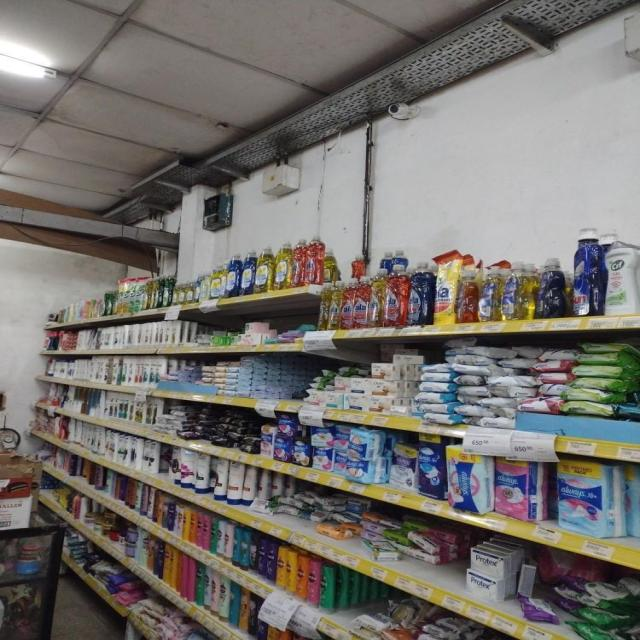ala_conc_amarillo: (369, 259, 385, 328), (328, 280, 341, 330), (320, 281, 332, 330)
ala_conc_azul: (408, 260, 432, 326)
ala_conc_rojo: (385, 262, 407, 327), (305, 236, 322, 286), (354, 275, 369, 329), (341, 280, 354, 330), (292, 238, 304, 287)
ala_sachet_amarillo: (434, 258, 456, 325), (457, 264, 478, 324)
magistral_con_amarillo: (478, 264, 499, 322), (274, 241, 290, 290), (256, 245, 272, 293), (174, 277, 184, 306), (186, 278, 195, 305)
magistral_con_azul: (241, 248, 255, 295), (226, 250, 240, 297)
